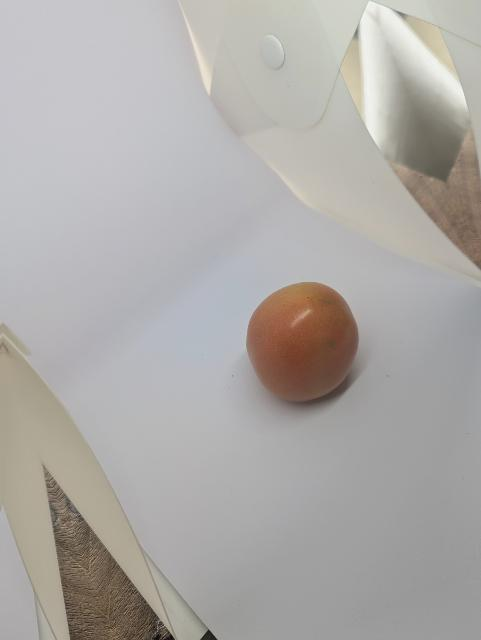turning: (241, 270, 372, 409)
